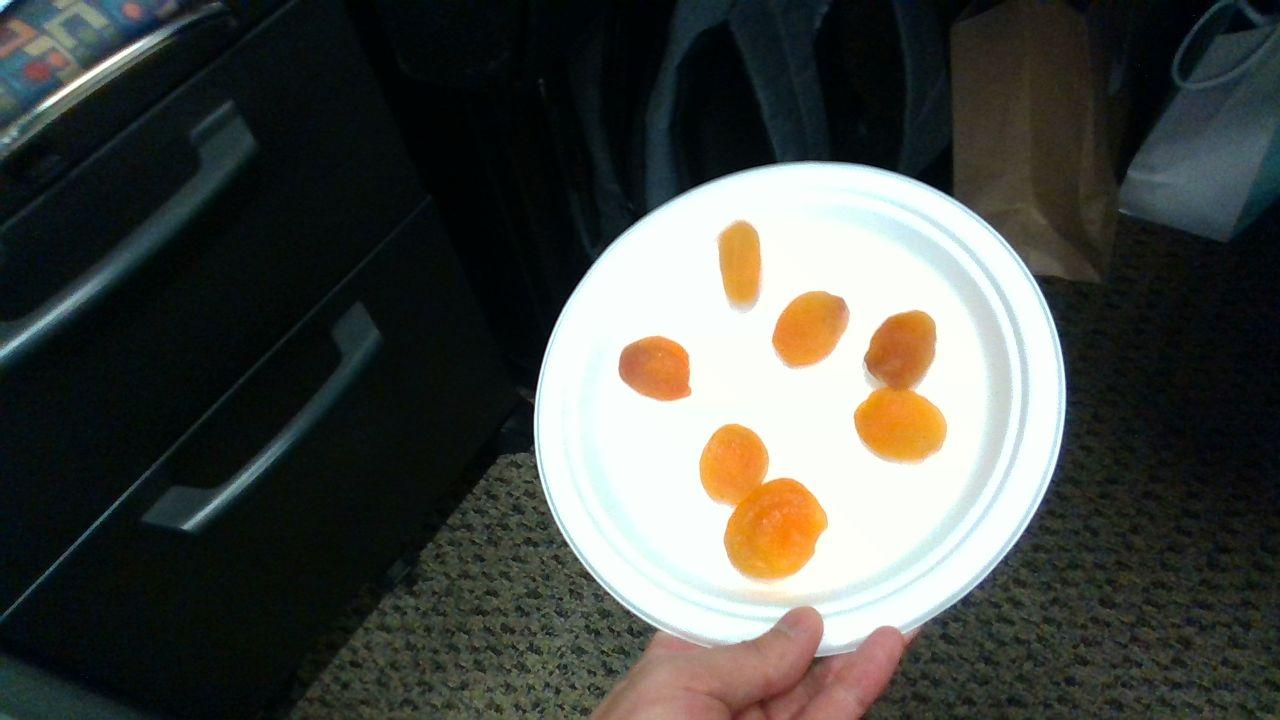apricot: (725, 479, 828, 582), (854, 389, 947, 463), (865, 311, 937, 390), (700, 424, 769, 505), (773, 293, 849, 366), (619, 337, 691, 400), (719, 221, 760, 303)
